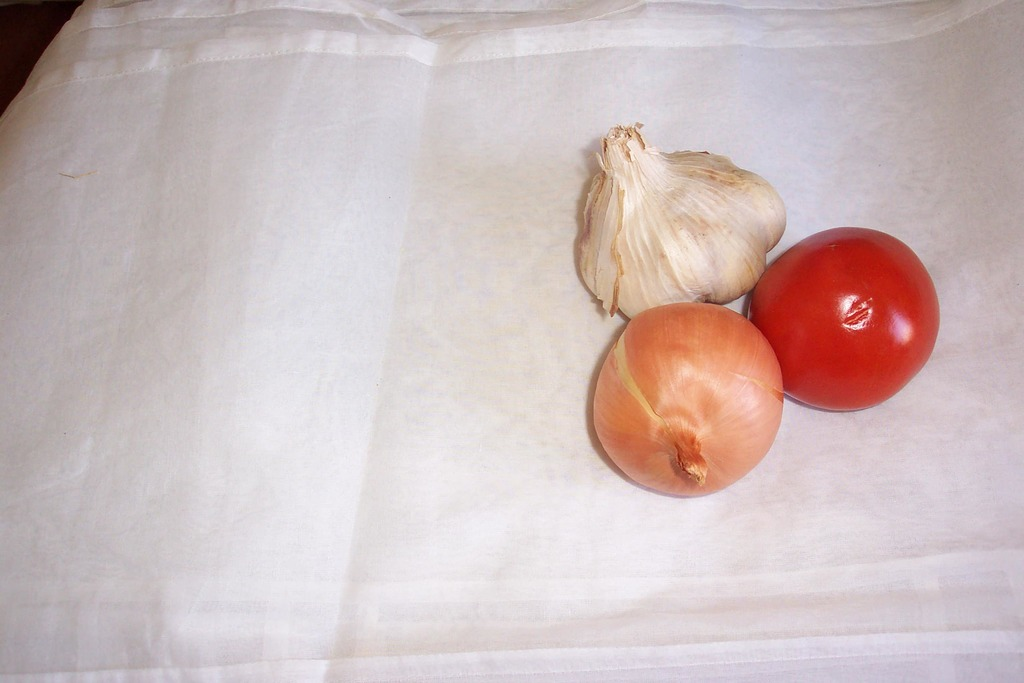Tomato: (746, 217, 950, 408)
